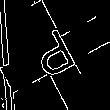P_SE: (26, 24, 84, 86)
